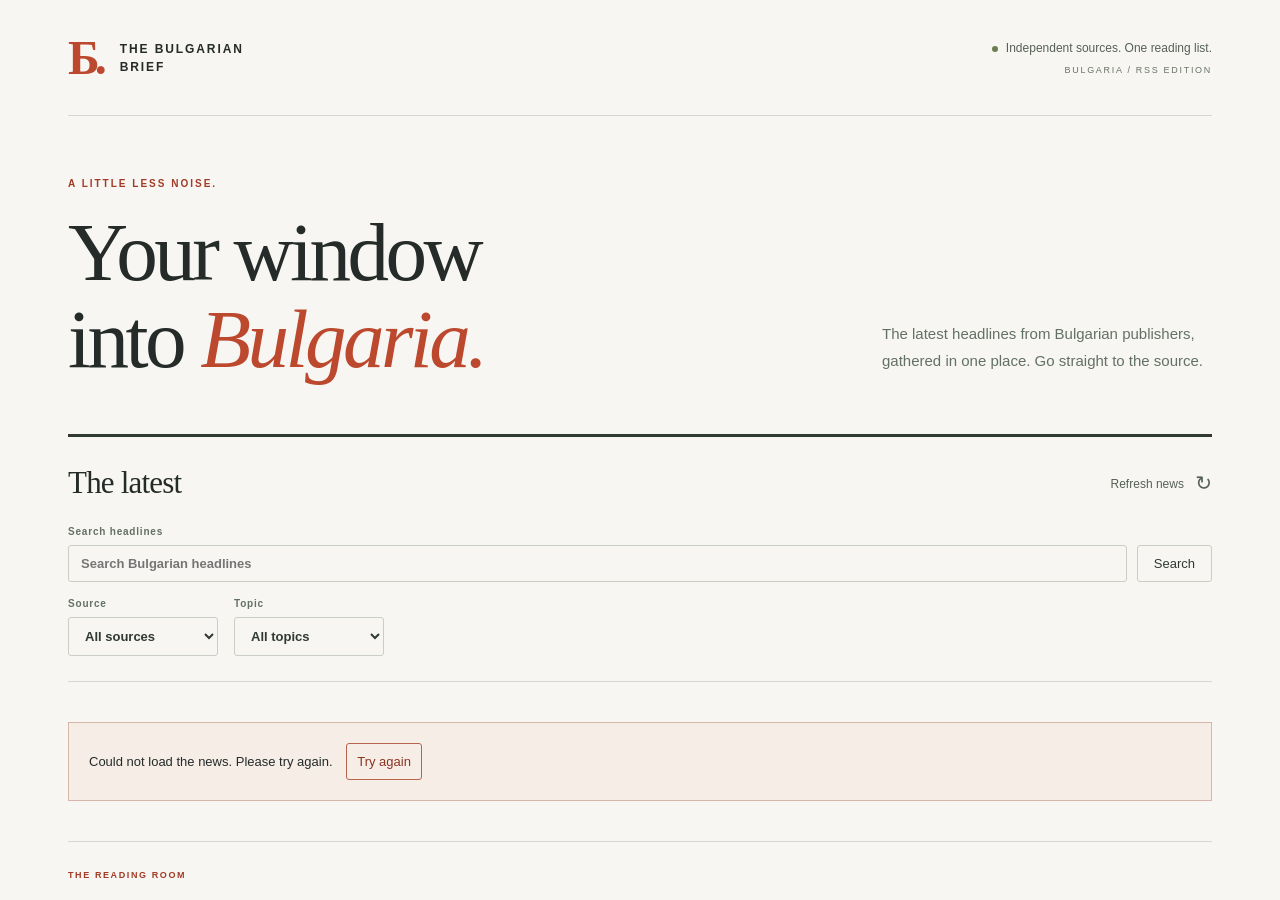
Test: news feed › recovers from a failed request when the reader retries
Expected: the message shows "Could not load", [89, 754, 332, 769]
Click the button "Try again".
click(384, 762)  # box [346, 743, 422, 780]
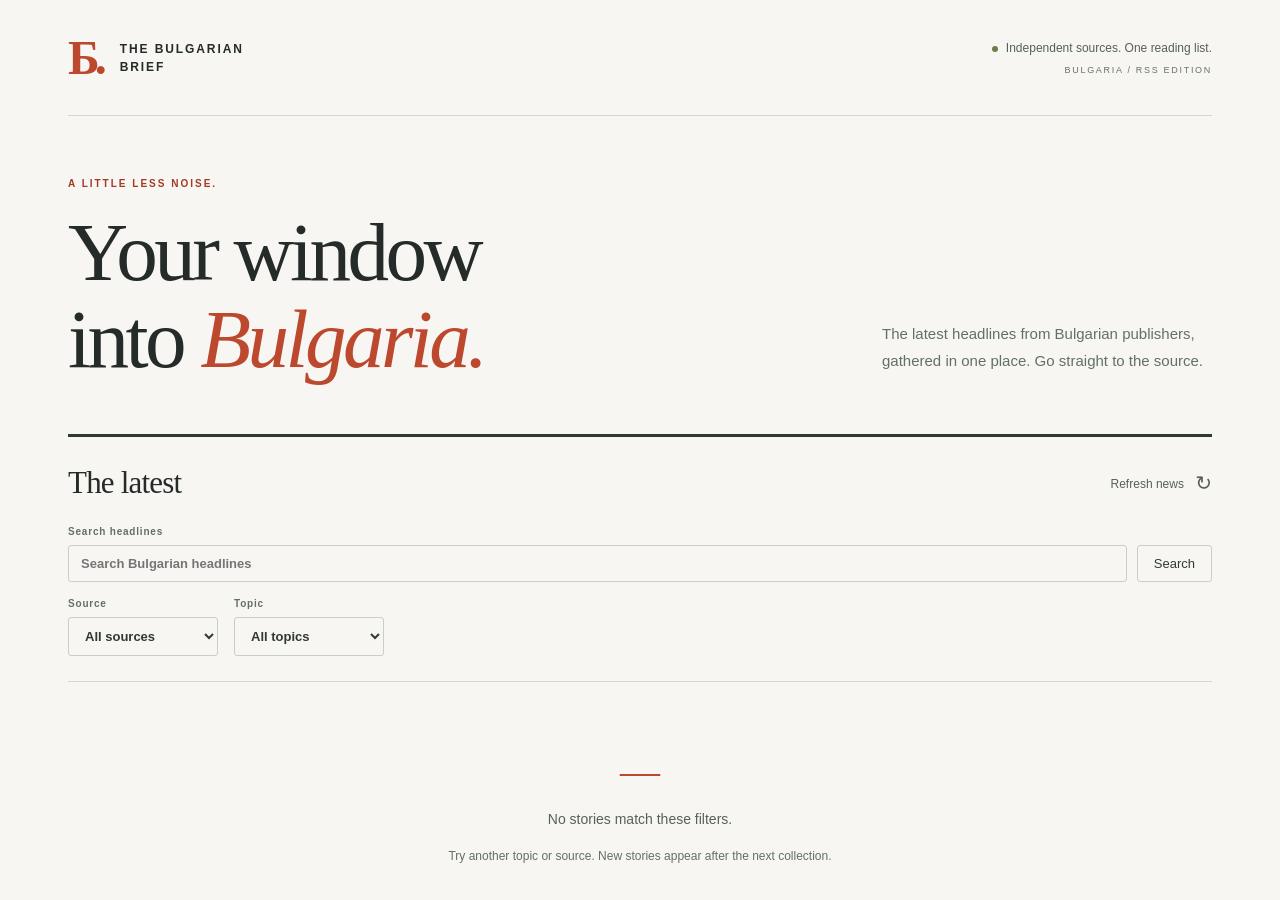
Expected: the text "No stories match these filters." is shown, [548, 811, 732, 827]
